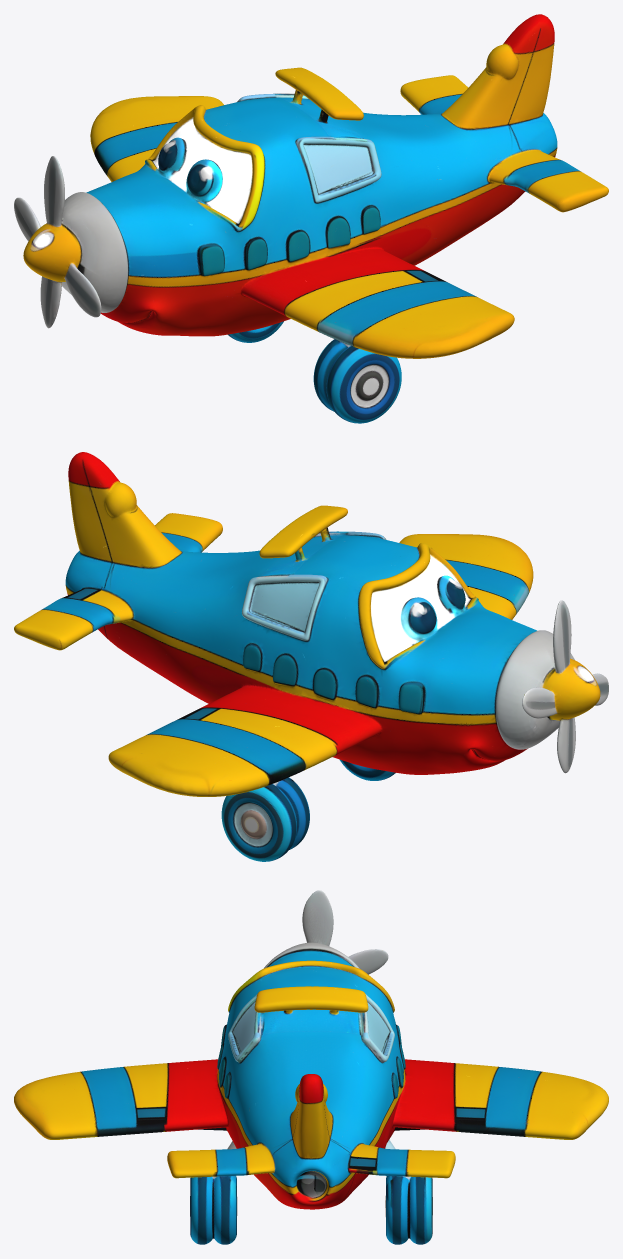
File: Meshy_AI_Rainbow_Skyplane_0510150017_texture.fbx
3 views of the same model, one above another, from view 1: azimuth 30°, elevation 25°; view 2: azimuth 150°, elevation 25°; view 3: azimuth 270°, elevation 25° (orthographic). The views are drawn at different scales.
Visible parts, largest first — view 1: Mesh_0; view 2: Mesh_0; view 3: Mesh_0.
Part boxes in pixels (left/top/right/bottom): Mesh_0: left=14, top=14, right=608, bottom=423; Mesh_0: left=14, top=452, right=608, bottom=861; Mesh_0: left=14, top=890, right=608, bottom=1244.
Bounding box in the file's own units: 172 × 94.74 × 190.
1 material, 1 textured.
